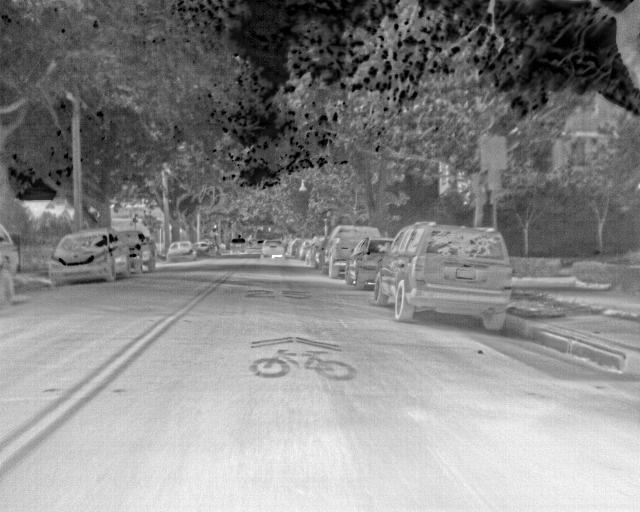car: (372, 220, 511, 331), (49, 227, 132, 289), (322, 224, 380, 279), (342, 235, 394, 290), (0, 221, 23, 309), (120, 228, 156, 275), (169, 241, 197, 262), (305, 236, 324, 266), (261, 238, 285, 259), (227, 235, 247, 254), (287, 238, 304, 256), (298, 238, 312, 258)
